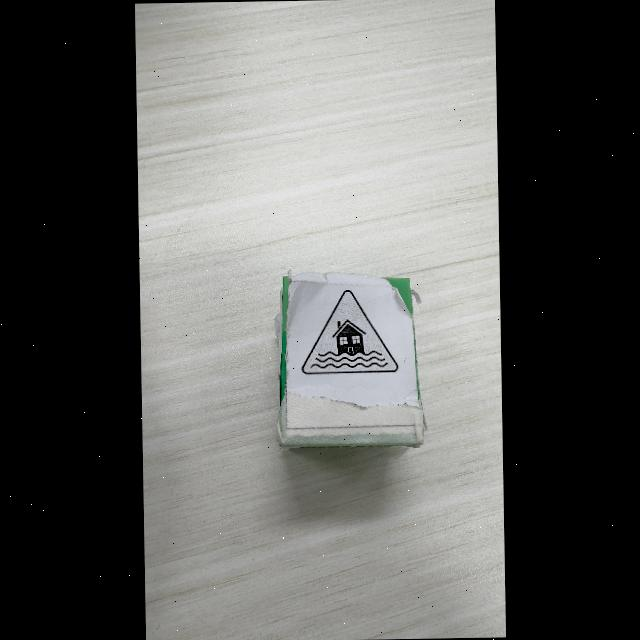Tsunami: (302, 290, 397, 374)
